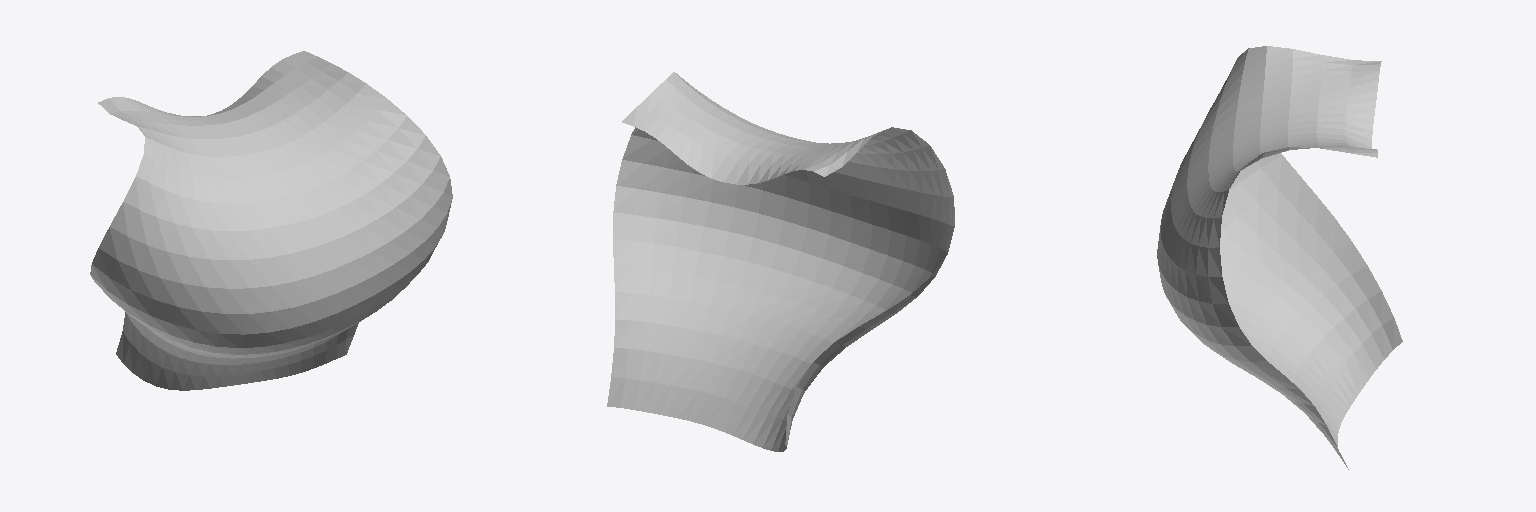
File: Roof_start.obj
3 views of the same model, side by side, from view 1: azimuth 30°, elevation 25°; view 2: azimuth 150°, elevation 25°; view 3: azimuth 270°, elevation 25° (orthographic).
Visible parts, largest first — view 1: [local-path]/hanan/hananLab/QS_project/data/Remeshing/Roof/Roof_; view 2: [local-path]/hanan/hananLab/QS_project/data/Remeshing/Roof/Roof_; view 3: [local-path]/hanan/hananLab/QS_project/data/Remeshing/Roof/Roof_.
Boxes of the visible parts, x1,y1,x2,y2 form: [local-path]/hanan/hananLab/QS_project/data/Remeshing/Roof/Roof_: [90, 51, 452, 390]; [local-path]/hanan/hananLab/QS_project/data/Remeshing/Roof/Roof_: [607, 72, 954, 451]; [local-path]/hanan/hananLab/QS_project/data/Remeshing/Roof/Roof_: [1157, 46, 1402, 469].
Size of the model in its own units: 2.78 by 2.42 by 1.72.